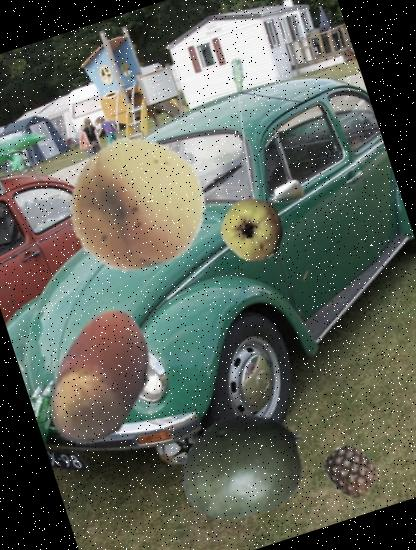Hazelnut: (9, 285, 192, 468)
Mango: (163, 385, 322, 544)
Peach: (48, 114, 223, 289)
Pineapple: (318, 438, 384, 504)
Quince: (212, 188, 294, 270)
